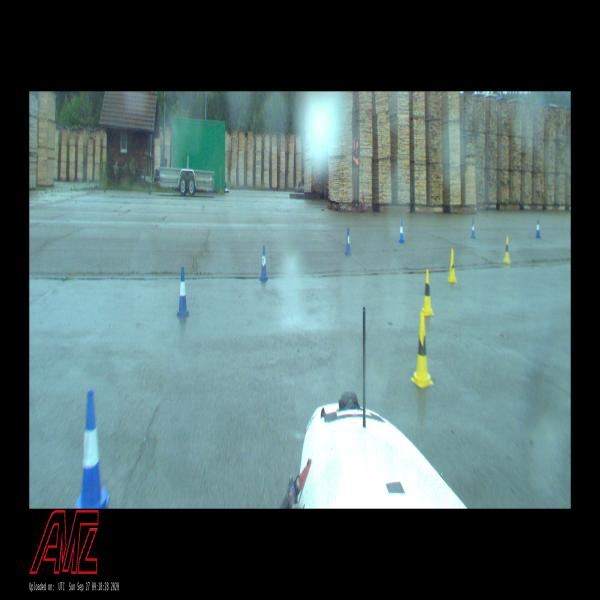blue_cone: (74, 389, 110, 508), (176, 266, 190, 318), (260, 245, 268, 281), (344, 227, 351, 256), (398, 220, 405, 243), (470, 218, 476, 239), (536, 219, 540, 238)
yellow_cone: (411, 311, 434, 388), (420, 268, 435, 316), (447, 248, 458, 282), (503, 237, 511, 263)
